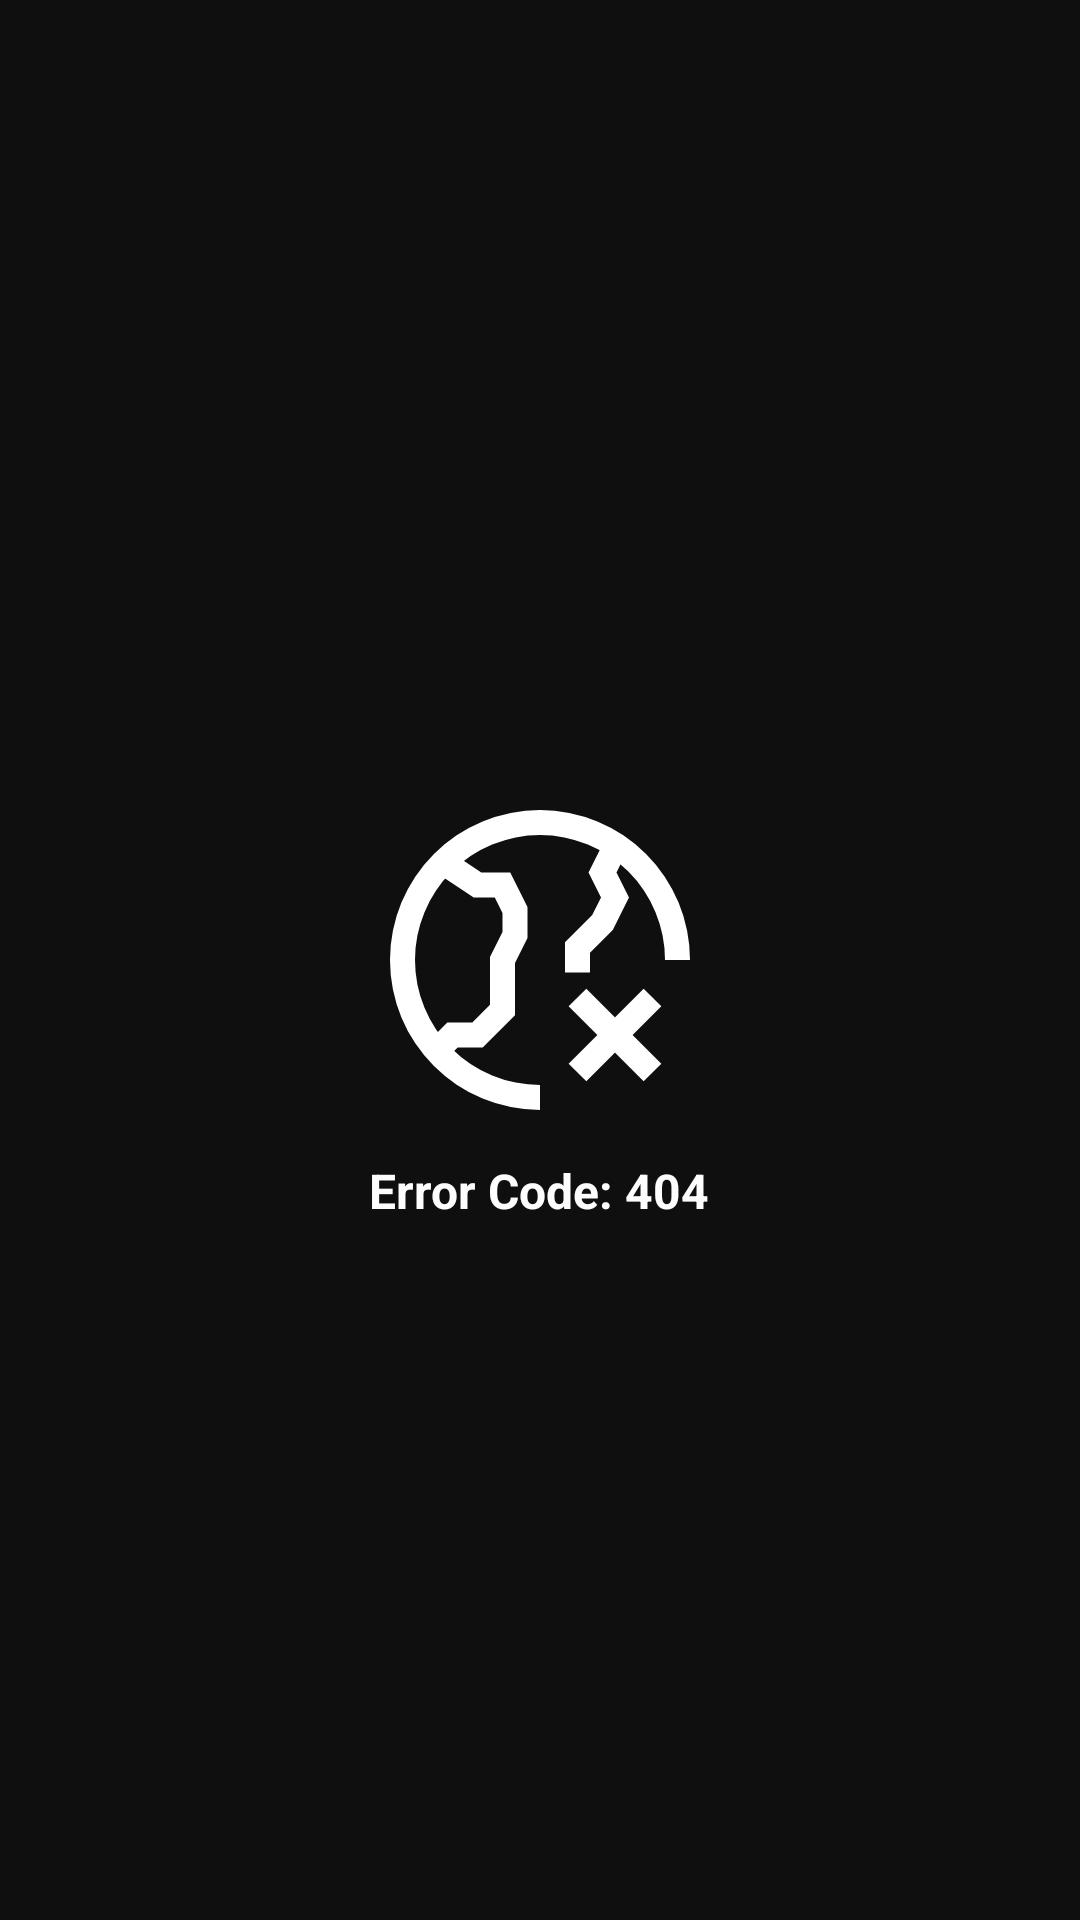

Where to tap for icons on this 1080 x 1920 app screen, as point (x, y):
reshot world error: point (540, 960)
